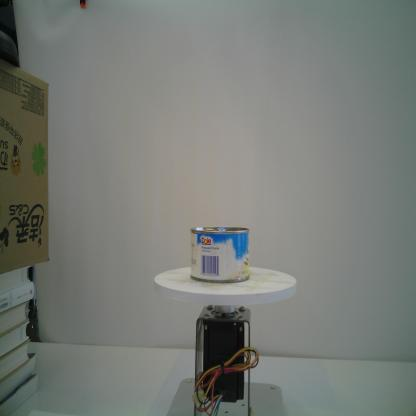Canned Food: (187, 224, 252, 284)
